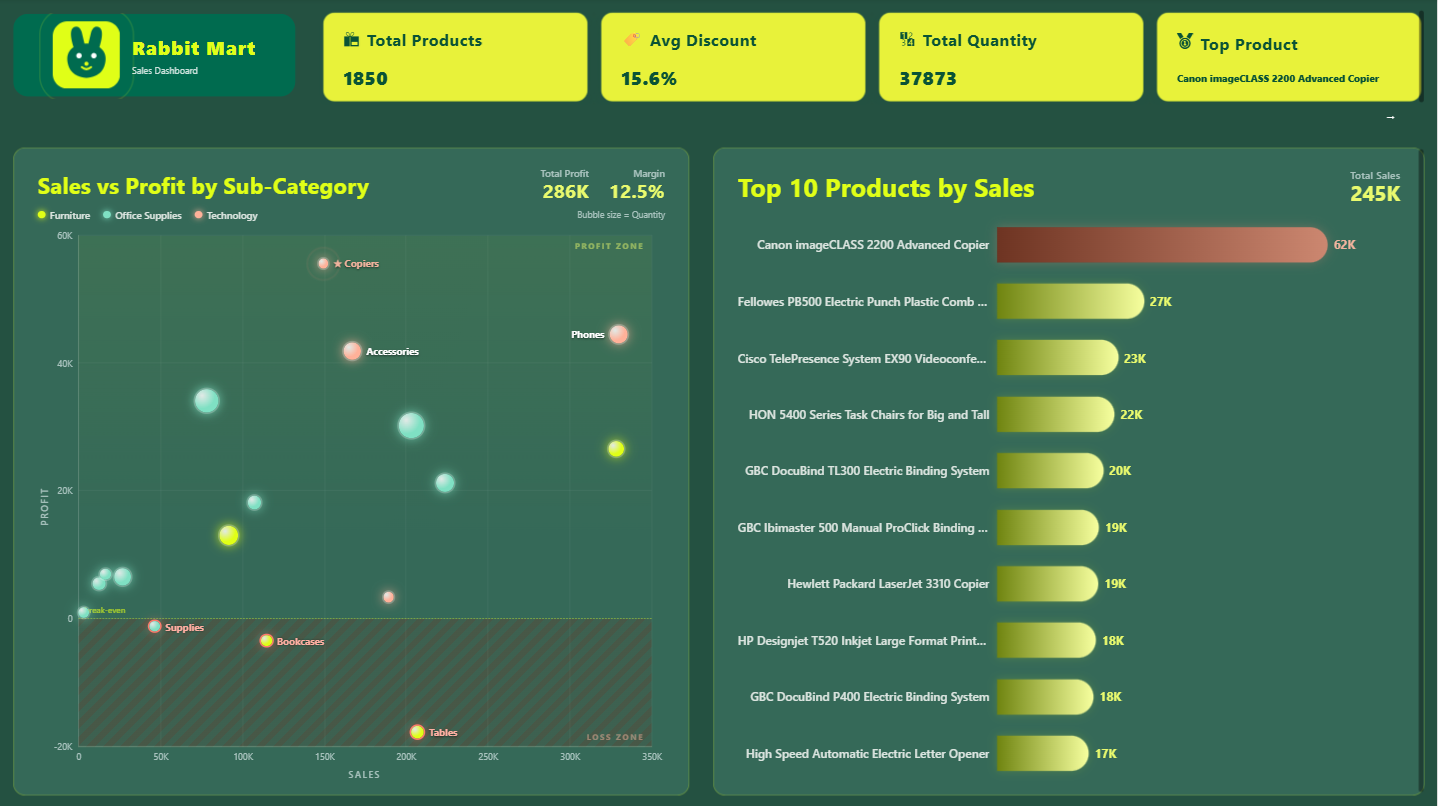

The page's visual inventory and layout, read from the dashboard file:
{"tool":"powerbi","page":{"name":"Product","canvas":[1920,1080],"ordinal":1},"visuals":[{"type":"htmlContent443BE3AD55E043BF878BED274D3A6855","fields":{"content":["Category_Measure.Product header"]},"box":[410.8,0,1508.7,158.7],"z":0},{"type":"htmlContent443BE3AD55E043BF878BED274D3A6855","fields":{"content":["Category_Measure.Product_Chart"]},"box":[937.4,184.6,982.6,895.8],"z":1000},{"type":"htmlContent443BE3AD55E043BF878BED274D3A6855","fields":{"content":["Category_Measure.Scatter"]},"box":[1.8,184.6,935.6,895.8],"z":2000},{"type":"htmlContent443BE3AD55E043BF878BED274D3A6855","fields":{"content":["Category_Measure.Rabbit Logo"]},"box":[1.8,7.2,409,143],"z":3000},{"type":"actionButton","box":[1795.2,135.7,124.9,45.2],"z":4000}]}

Visuals, with their boxes in screenshot pixels (x1, y1, x2, y2), scaled from the page's 1920x1080 canvas onto the 1438x806 screenshot:
htmlContent443BE3AD55E043BF878BED274D3A6855 - Category_Measure.Product header: box=[308, 0, 1437, 118]
htmlContent443BE3AD55E043BF878BED274D3A6855 - Category_Measure.Product_Chart: box=[702, 138, 1437, 805]
htmlContent443BE3AD55E043BF878BED274D3A6855 - Category_Measure.Scatter: box=[1, 138, 702, 805]
htmlContent443BE3AD55E043BF878BED274D3A6855 - Category_Measure.Rabbit Logo: box=[1, 5, 308, 112]
actionButton: box=[1345, 101, 1437, 135]
